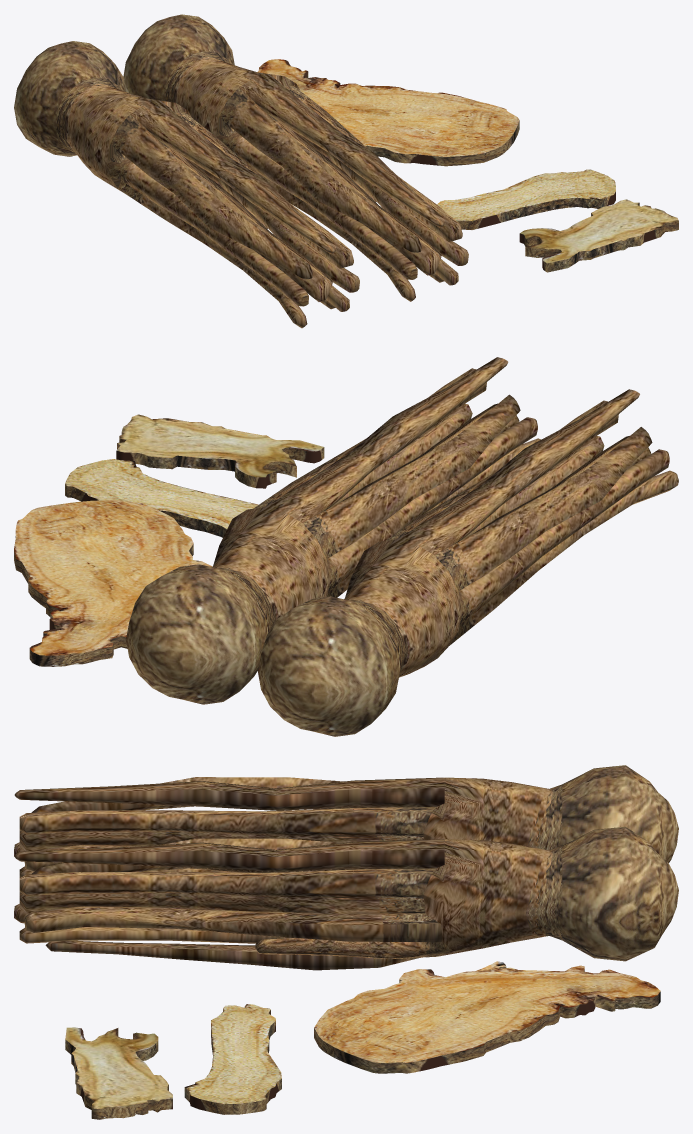
File: danggui.FBX
3 views of the same model, one above another, from view 1: azimuth 30°, elevation 25°; view 2: azimuth 150°, elevation 25°; view 3: azimuth 270°, elevation 25° (orthographic). The views are drawn at different scales.
Parts seen in each view (by area): view 1: Cylinder001, Cylinder002, Line001, Line003, Line002; view 2: Cylinder001, Cylinder002, Line001, Line003, Line002; view 3: Cylinder002, Cylinder001, Line001, Line002, Line003.
Part boxes in pixels (x1,y1,x2,y2): Cylinder001: (14,41,359,328); Cylinder002: (123,14,468,301); Line001: (257,59,519,166); Line003: (519,199,678,272); Line002: (437,169,615,229); Cylinder001: (258,389,678,736); Cylinder002: (126,357,540,704); Line001: (14,500,212,666); Line003: (116,414,324,488); Line002: (65,459,258,537); Cylinder002: (14,826,678,970); Cylinder001: (14,765,678,877); Line001: (314,961,660,1073); Line002: (184,1004,281,1114); Line003: (65,1027,172,1119).
Bounding box in the file's own units: 897 × 220 × 1021.
1 material, 1 textured.
